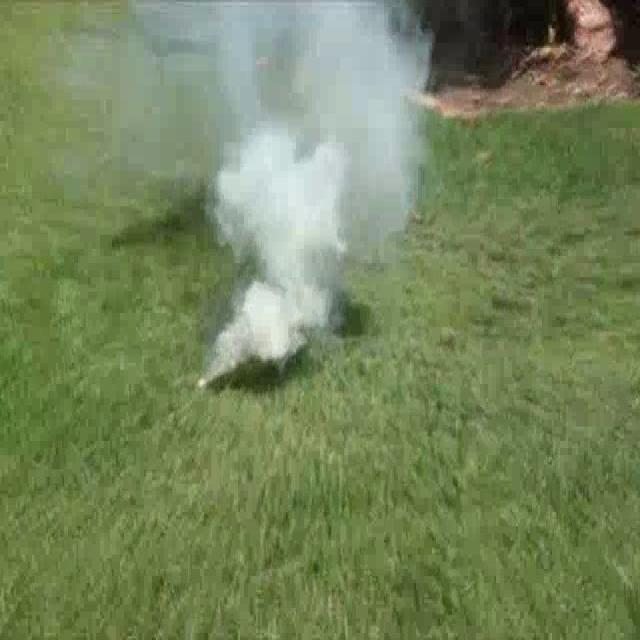Smoke: (45, 0, 454, 398)
